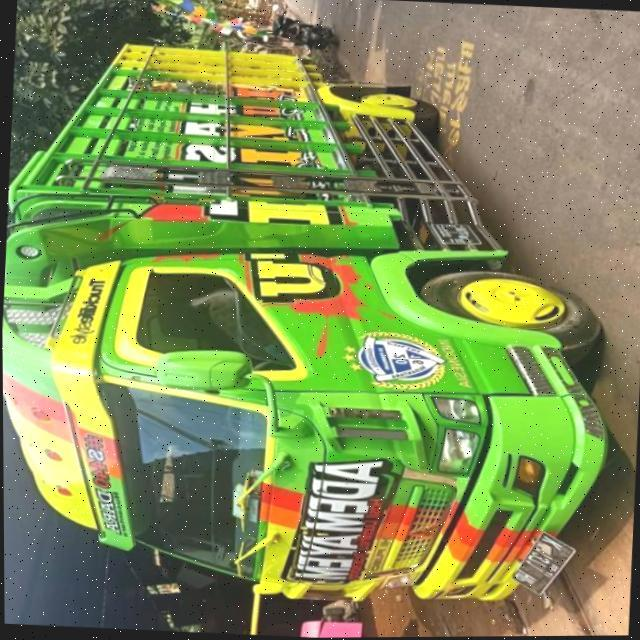truck: (1, 35, 630, 640)
